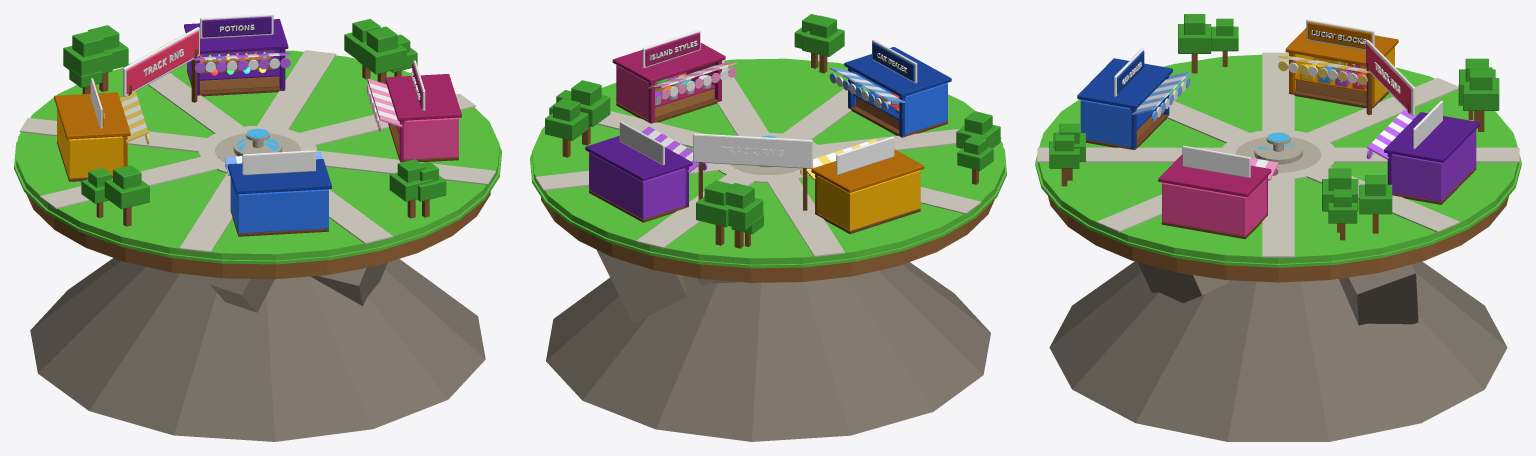
File: MainIsland.fbx
3 views of the same model, side by side, from view 1: azimuth 30°, elevation 25°; view 2: azimuth 150°, elevation 25°; view 3: azimuth 270°, elevation 25° (orthographic). The views are drawn at different scales.
Visible parts, largest first — view 1: MainIsland_Ground, Hub_Paths, Cars_Shell, Styles_Shell, Lucky_Shell, Potions_Shell, Hub_TitleSign, Hub_Plaza, Hub_Tree8, Hub_Tree9, Hub_Tree6, Cars_SignBoard (+7 smaller); view 2: MainIsland_Ground, Hub_Paths, Lucky_Shell, Potions_Shell, Cars_Shell, Styles_Shell, Hub_TitleSign, Hub_Tree9, Hub_Tree4, Hub_Tree7, Hub_Tree5, Hub_Tree8 (+7 smaller); view 3: MainIsland_Ground, Hub_Paths, Potions_Shell, Styles_Shell, Cars_Shell, Lucky_Shell, Hub_Plaza, Hub_TitleSign, Hub_Tree5, Styles_SignBoard, Hub_Tree4, Hub_Tree6 (+10 smaller).
Part boxes in pixels (left/top/right/bottom): MainIsland_Ground: left=14, top=50, right=501, bottom=441; Hub_Paths: left=19, top=50, right=496, bottom=252; Cars_Shell: left=225, top=151, right=331, bottom=236; Styles_Shell: left=366, top=74, right=461, bottom=162; Lucky_Shell: left=54, top=91, right=149, bottom=181; Potions_Shell: left=184, top=19, right=290, bottom=96; Hub_TitleSign: left=123, top=27, right=199, bottom=102; Hub_Plaza: left=199, top=126, right=316, bottom=172; Hub_Tree8: left=357, top=26, right=406, bottom=84; Hub_Tree9: left=63, top=30, right=112, bottom=93; Hub_Tree6: left=104, top=165, right=149, bottom=226; Cars_SignBoard: left=242, top=150, right=315, bottom=175; MainIsland_Ground: left=530, top=58, right=1006, bottom=441; Hub_Paths: left=535, top=60, right=1001, bottom=256; Lucky_Shell: left=800, top=139, right=924, bottom=233; Potions_Shell: left=585, top=126, right=707, bottom=222; Cars_Shell: left=829, top=47, right=951, bottom=137; Styles_Shell: left=612, top=43, right=736, bottom=123; Hub_TitleSign: left=693, top=133, right=812, bottom=210; Hub_Tree9: left=715, top=183, right=763, bottom=248; Hub_Tree4: left=545, top=98, right=588, bottom=157; Hub_Tree7: left=802, top=15, right=844, bottom=73; Hub_Tree5: left=696, top=180, right=732, bottom=245; Hub_Tree8: left=571, top=80, right=610, bottom=145; MainIsland_Ground: left=1035, top=54, right=1521, bottom=441; Hub_Paths: left=1037, top=52, right=1519, bottom=257; Potions_Shell: left=1366, top=109, right=1479, bottom=204; Styles_Shell: left=1158, top=154, right=1278, bottom=239; Cars_Shell: left=1077, top=58, right=1190, bottom=149; Lucky_Shell: left=1278, top=28, right=1398, bottom=108; Hub_Plaza: left=1220, top=130, right=1336, bottom=179; Hub_TitleSign: left=1365, top=39, right=1414, bottom=115; Hub_Tree5: left=1463, top=67, right=1499, bottom=131; Styles_SignBoard: left=1182, top=145, right=1250, bottom=177; Hub_Tree4: left=1359, top=175, right=1392, bottom=233; Hub_Tree6: left=1178, top=14, right=1211, bottom=73.
Size of the model in its own units: 182 by 109 by 182.
